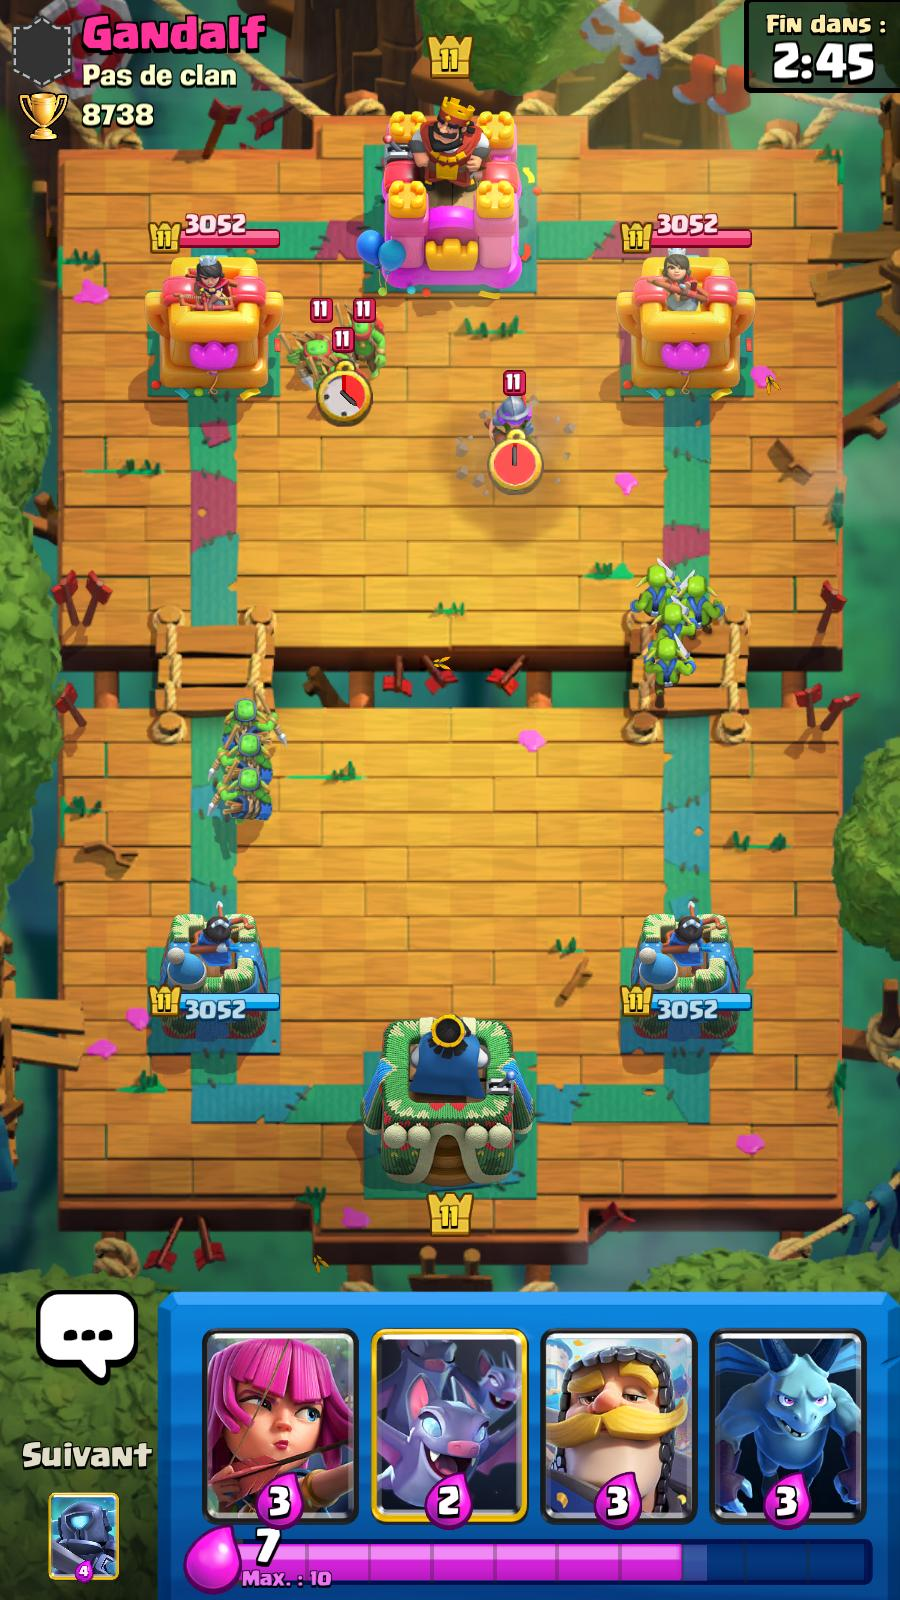gobelin: (644, 631, 698, 712), (678, 567, 726, 640), (635, 562, 681, 633), (651, 595, 701, 656)
gobelin_lances: (282, 297, 344, 397), (223, 686, 290, 753), (320, 325, 362, 427), (340, 293, 389, 376), (212, 760, 275, 822), (211, 725, 275, 785)
mousquetaire: (482, 365, 536, 463)
